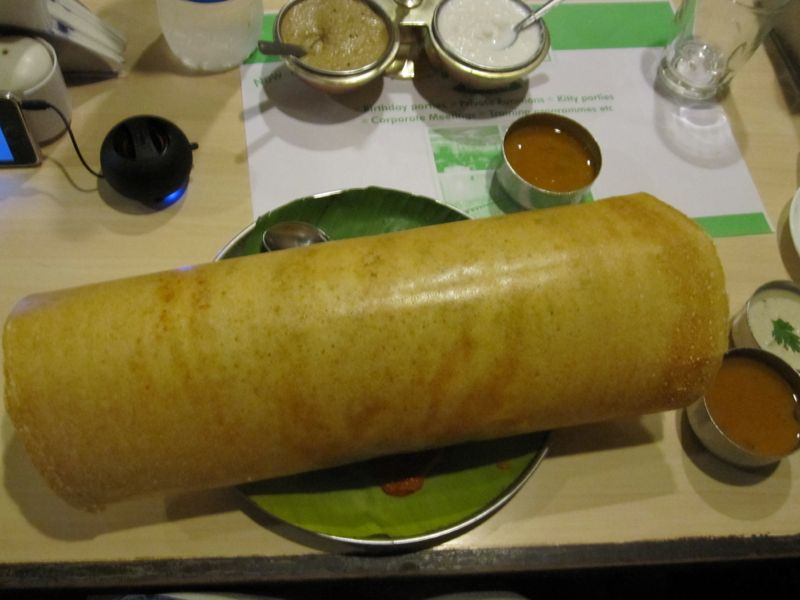dosa: (5, 186, 743, 535)
